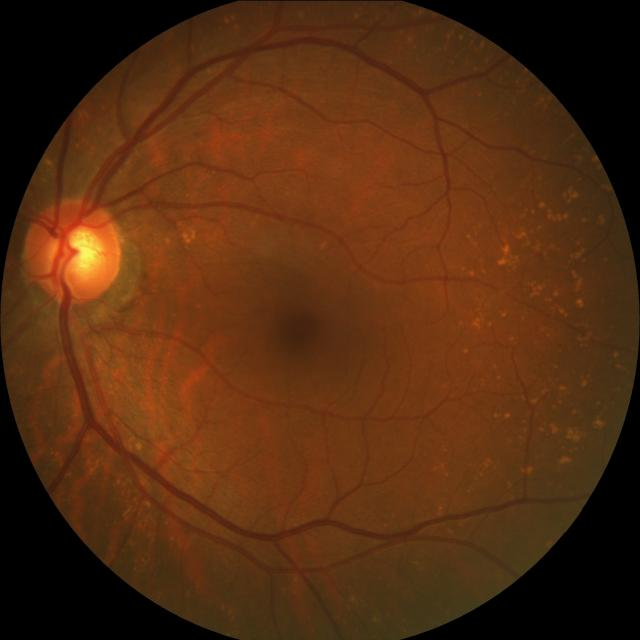OC: (49, 224, 100, 278)
OD: (22, 195, 122, 304)
